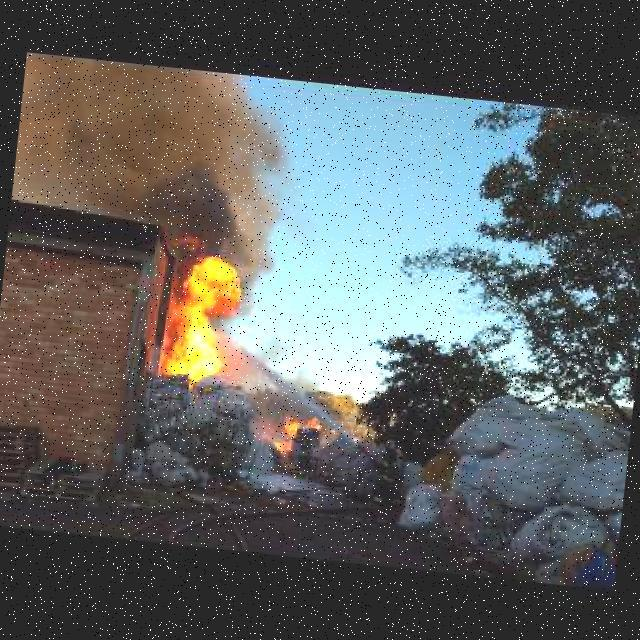Fire: (156, 250, 248, 380), (272, 410, 326, 455)
Smoke: (9, 48, 298, 267)
